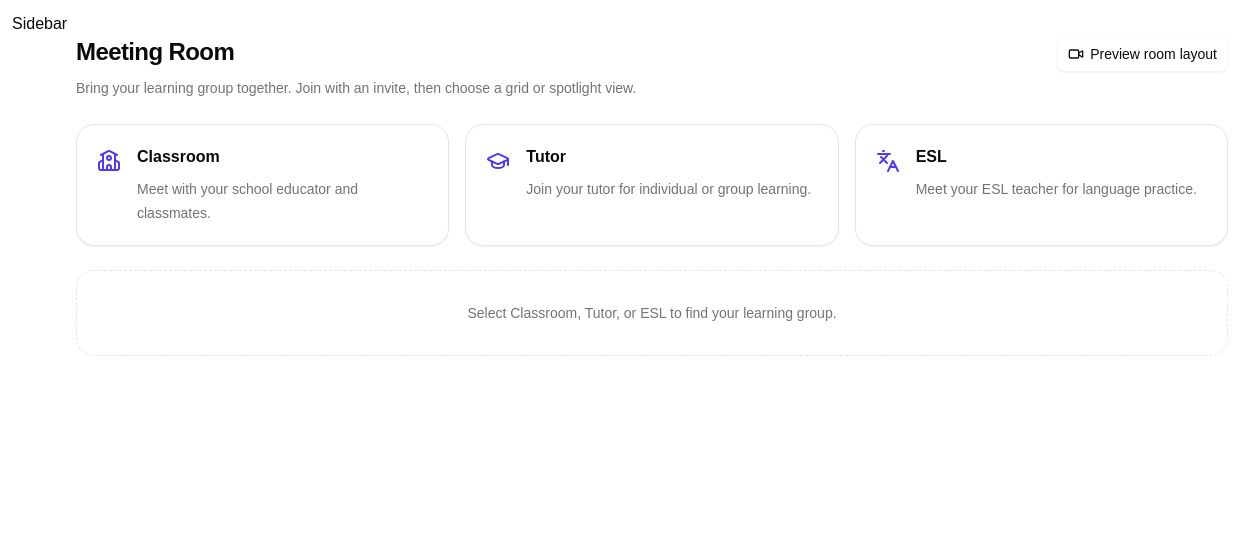
meeting room entry › shows three categories and filters enrolled classes while keeping the student workspace
Expected: the navigation bar named "Workspace navigation" is shown, [12,15,67,32]
Click the button "Classroom Meet with your school educator and classmates.": (263, 185) [76,124,449,246]
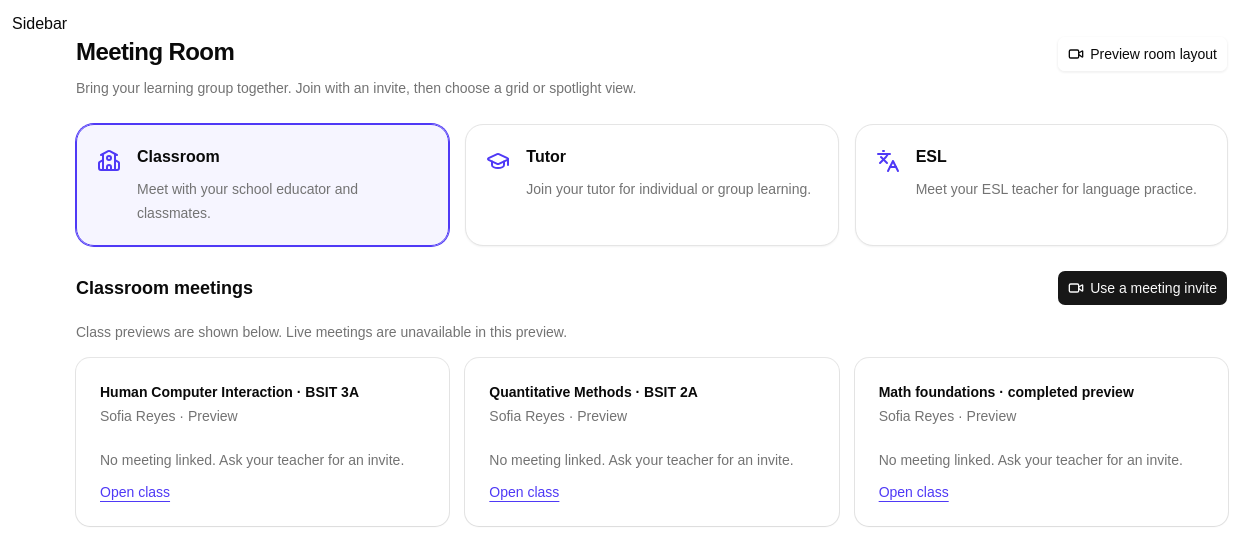
Expected: the heading "Algebra coaching circle" is not shown
Expected: the heading "Human Computer Interaction · BSIT 3A" is shown, [100,384,359,400]
Click the button "Tutor Join your tutor for individual or group learning.": (652, 185) [465,124,839,246]
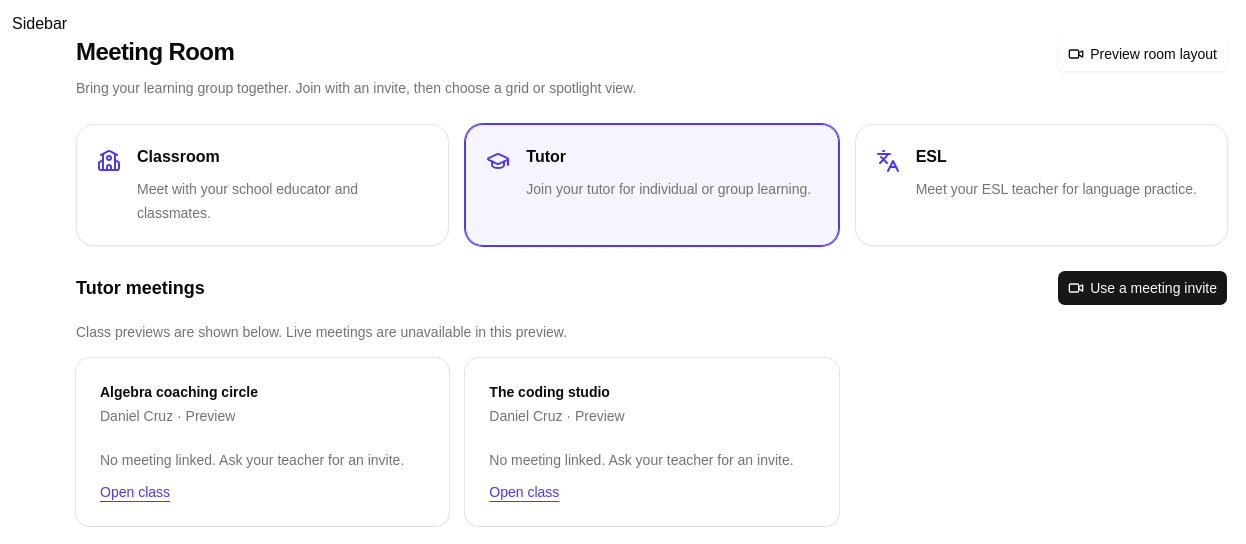
Expected: the number of links "Open class" is 2, [100,484,170,500]; [489,484,559,500]
Expected: the heading "Tutor meetings" is shown, [76,274,205,302]
Expected: the heading "Human Computer Interaction · BSIT 3A" is gone
Click the button "ESL Meet your ESL teacher for language practice.": (1041, 185) [855,124,1228,246]
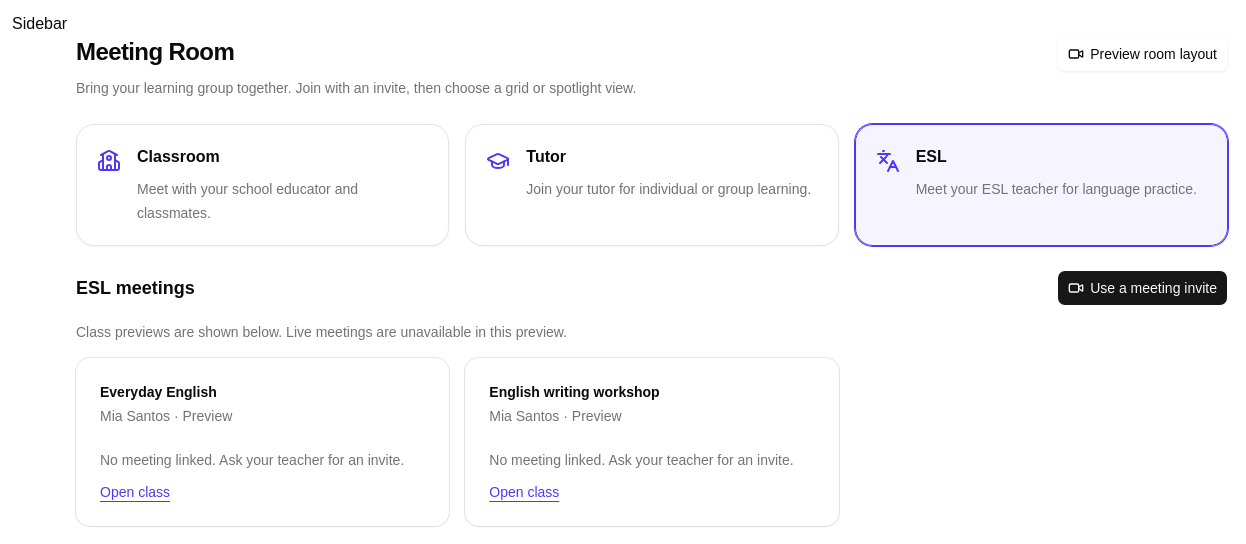
Expected: the heading "ESL meetings" is shown, [76,274,195,302]
Expected: the heading "Everyday English" is shown, [100,384,217,400]
